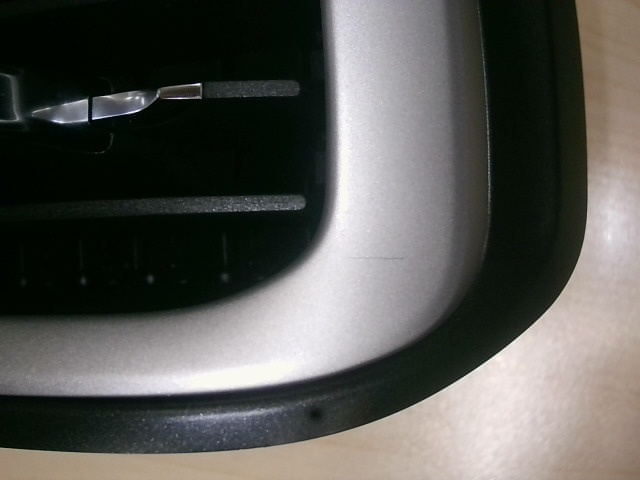NG: (336, 246, 417, 280)
